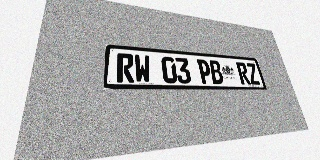0: (161, 56, 178, 83)
3: (175, 57, 191, 84)
B: (208, 60, 224, 84)
P: (196, 59, 213, 84)
R: (117, 53, 134, 83), (236, 62, 251, 85)
W: (134, 54, 151, 83)
Z: (245, 63, 261, 85)
